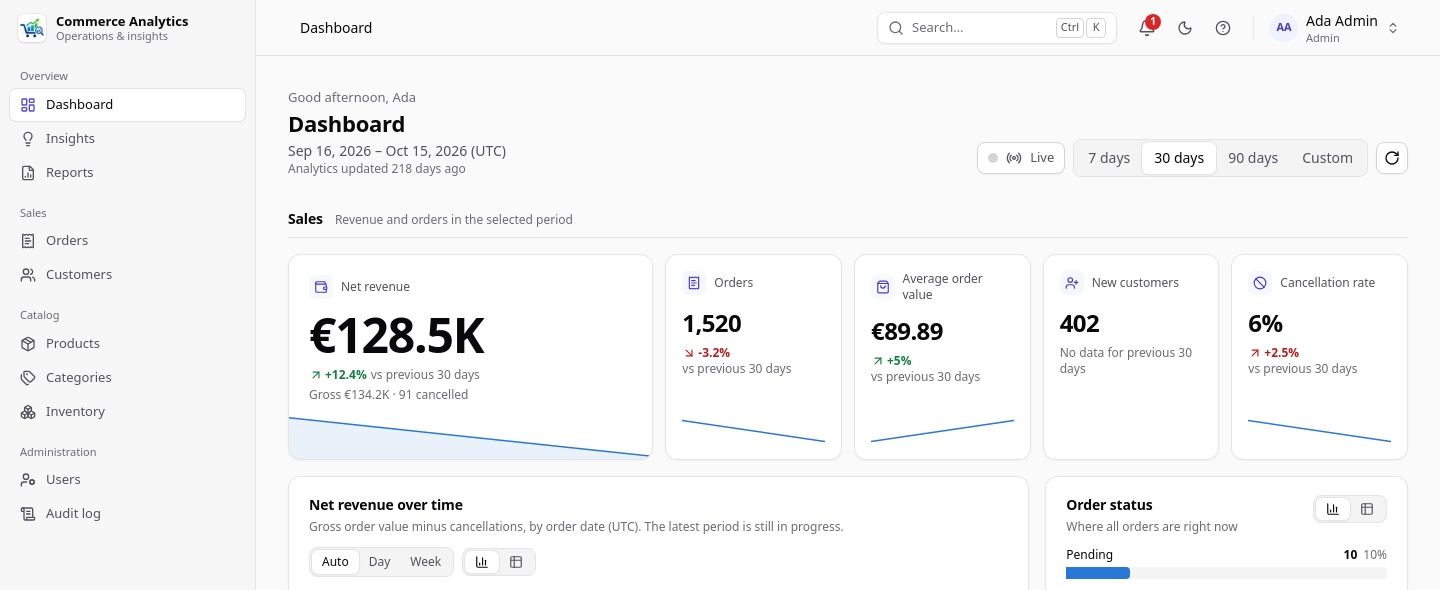
Test: app shell › switches the theme from the account menu
What coordinates should you click on to do the following:
click the button with aria-label "Account menu"
I would click on:
 (1337, 28)
Its box is [1266,7,1408,48].
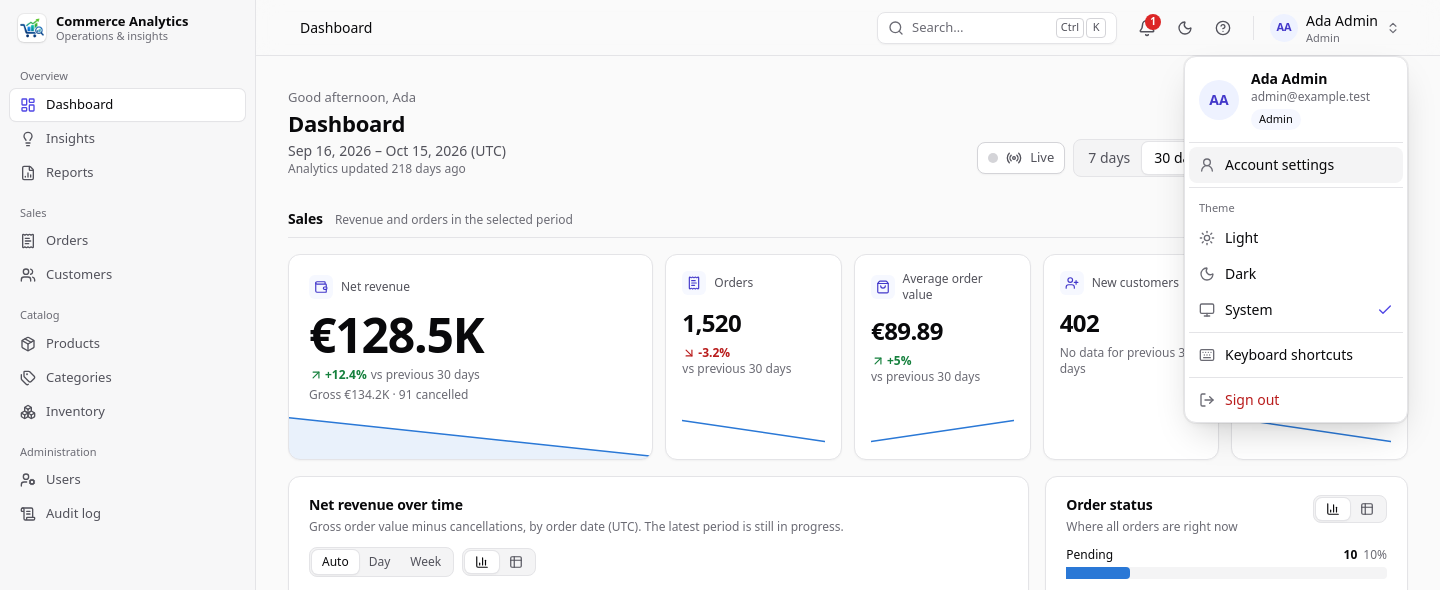
What coordinates should you click on to do the following:
click the menu item "Dark"
I would click on:
 (1296, 274)
Its box is [1189,256,1403,292].
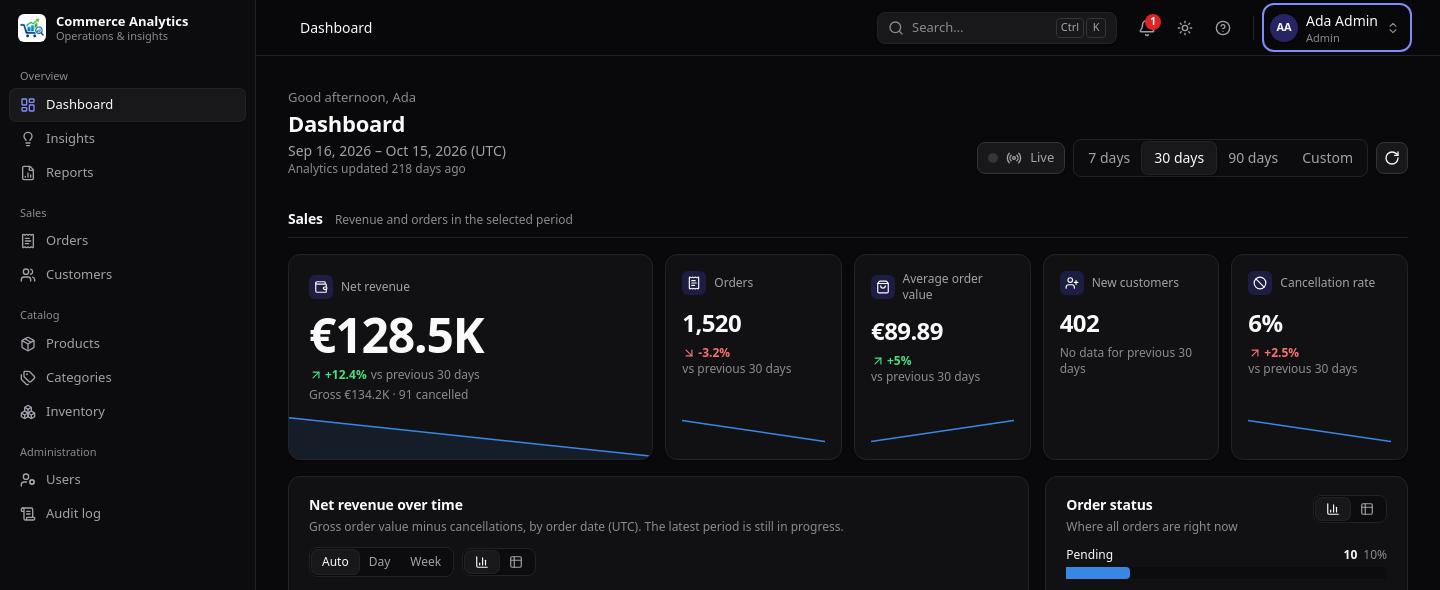
Expected: the menu is gone
